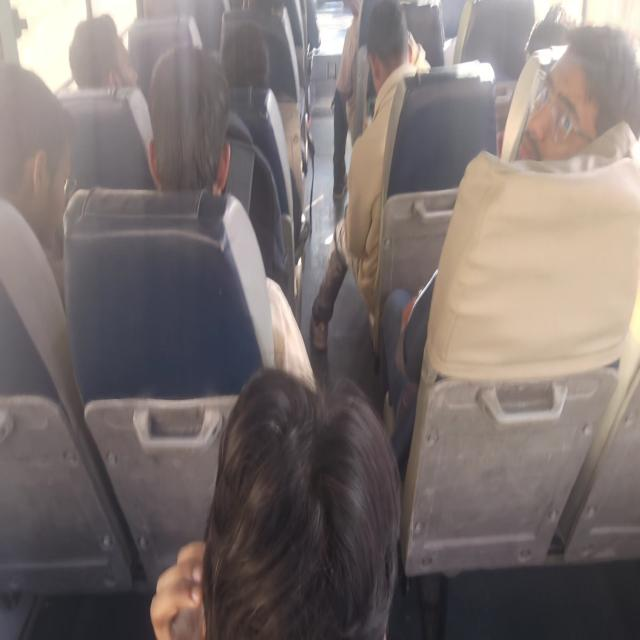person: (155, 348, 376, 640), (156, 48, 260, 284), (523, 40, 628, 218), (0, 73, 83, 293), (77, 16, 193, 102), (356, 0, 420, 114), (212, 23, 278, 95), (510, 6, 560, 87), (332, 0, 379, 65)
